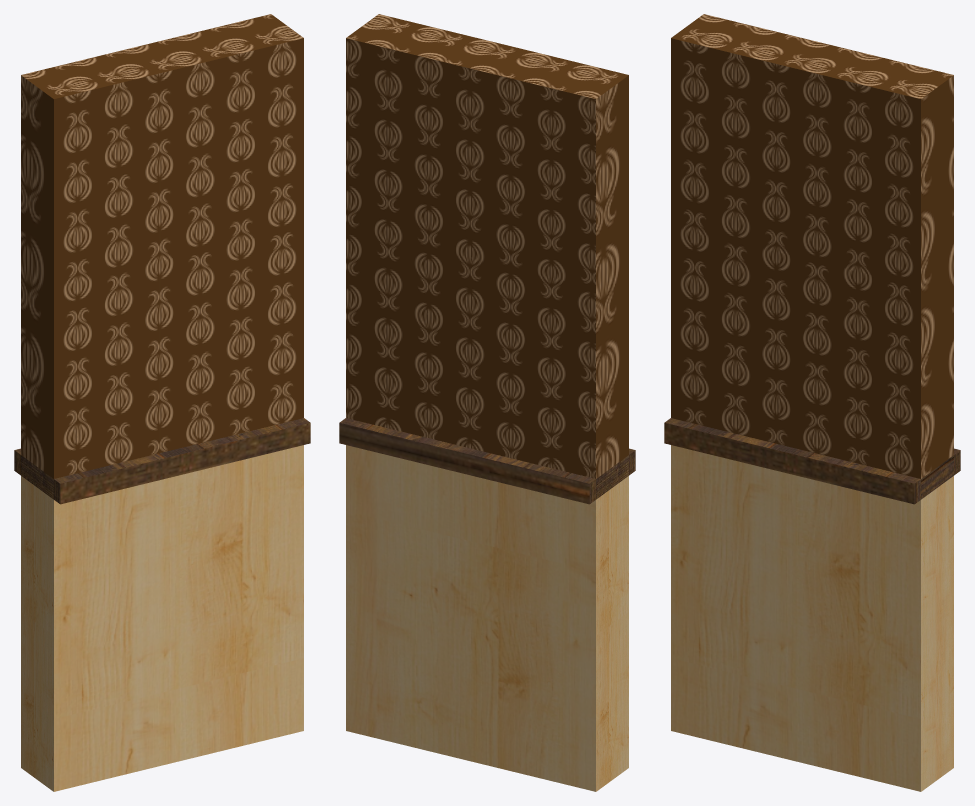
Rendered from Office Wall.fbx.
3 renders of one model, left to right at view 1: azimuth 30°, elevation 25°; view 2: azimuth 150°, elevation 25°; view 3: azimuth 330°, elevation 25°, orthographic.
Parts seen in each view (by area): view 1: pCube4; view 2: pCube4; view 3: pCube4.
Boxes of the visible parts, x1=… form: pCube4: x1=14, y1=14, x2=310, y2=791; pCube4: x1=339, y1=14, x2=635, y2=791; pCube4: x1=664, y1=14, x2=960, y2=791.
Bounding box in the file's own units: 18.24 × 48.24 × 5.8.
Materials: 1 (1 with a texture image).
